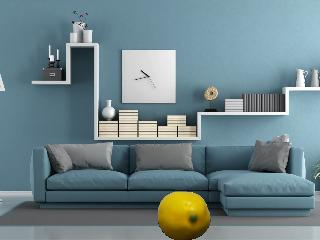lemon: (157, 191, 208, 240)
